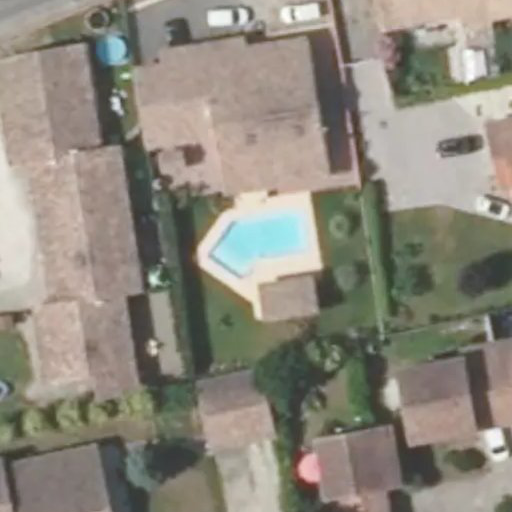pool: (202, 216, 308, 270)
